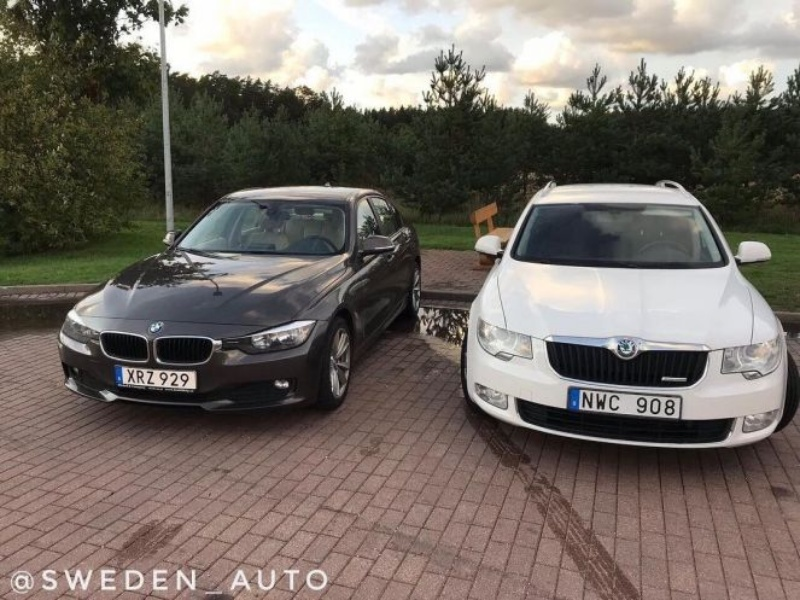car: (462, 180, 800, 450), (59, 185, 422, 414)
plate: (567, 386, 681, 418), (113, 364, 196, 391)
